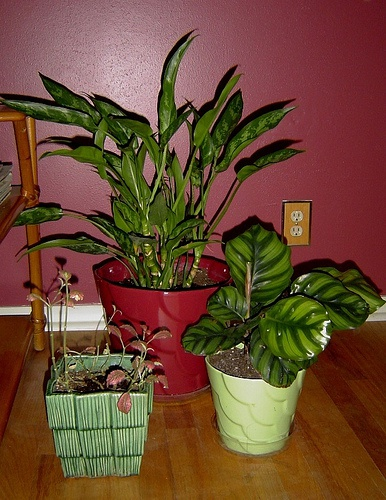flowerpot: (95, 247, 242, 406), (43, 354, 152, 489), (205, 346, 307, 453)
